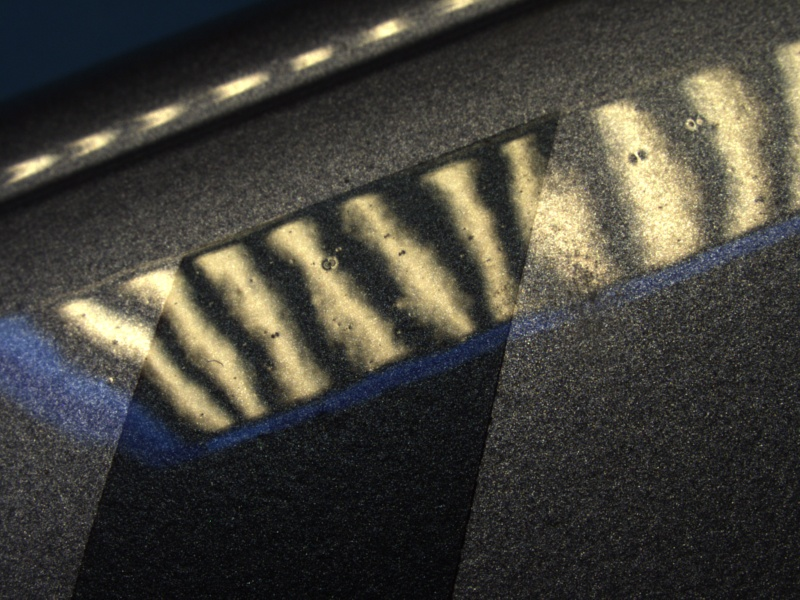bad: (679, 107, 714, 138), (623, 143, 656, 171), (318, 248, 345, 275)
